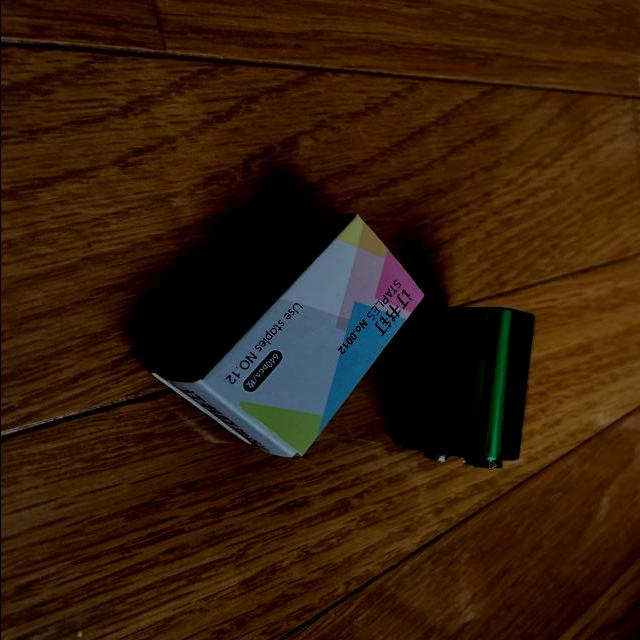9V: (396, 306, 535, 470)
